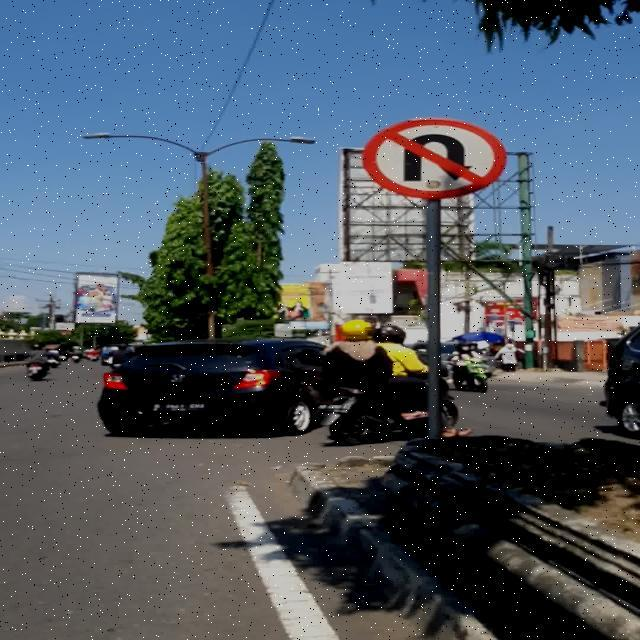Dilarang Putar Balik: (363, 118, 507, 198)
